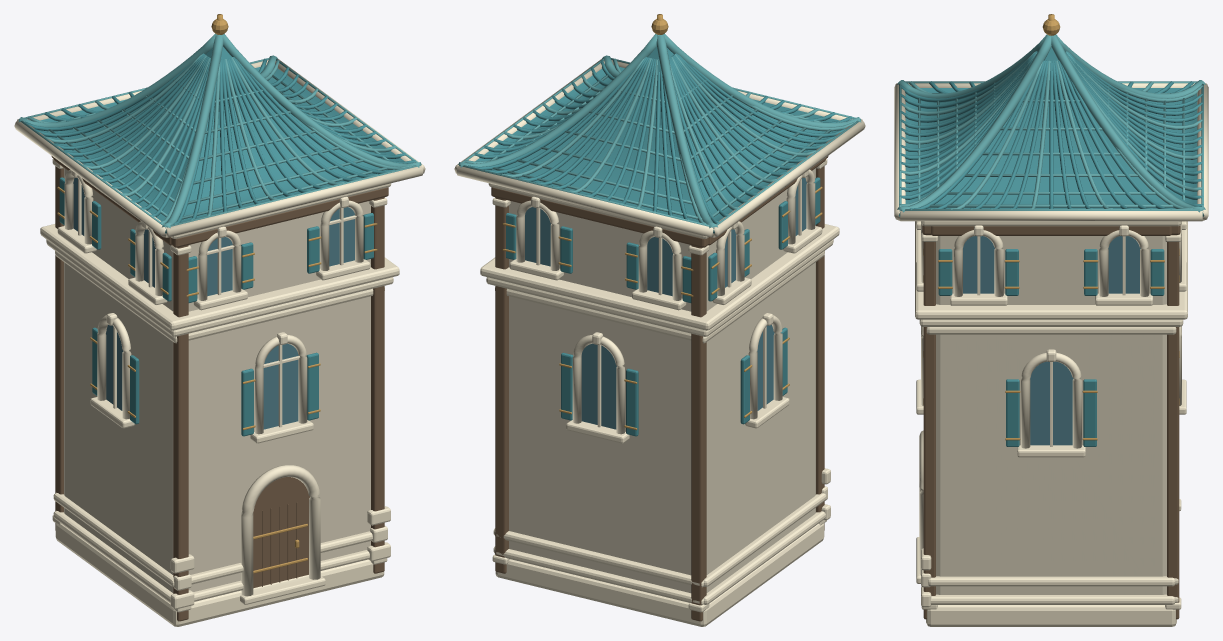
Rendered from tower.glb.
3 views of the same model, side by side, from view 1: azimuth 30°, elevation 25°; view 2: azimuth 150°, elevation 25°; view 3: azimuth 270°, elevation 25° (orthographic). The views are drawn at different scales.
Visible parts, largest first — view 1: Honey ivory plaster, Carved pale limestone, Glazed peacock roof, Walnut beams, Celadon tile variation, Dusky blue window, Warm brass accents; view 2: Honey ivory plaster, Carved pale limestone, Glazed peacock roof, Celadon tile variation, Walnut beams, Dusky blue window, Warm brass accents; view 3: Honey ivory plaster, Carved pale limestone, Glazed peacock roof, Celadon tile variation, Walnut beams, Dusky blue window, Warm brass accents.
Boxes of the visible parts, box(x1,y1,x2,y2) form: Honey ivory plaster: box(64, 168, 370, 592); Carved pale limestone: box(14, 59, 425, 626); Glazed peacock roof: box(24, 46, 415, 436); Walnut beams: box(51, 156, 388, 621); Celadon tile variation: box(18, 33, 421, 233); Dusky blue window: box(73, 178, 354, 429); Warm brass accents: box(57, 14, 377, 573); Honey ivory plaster: box(509, 168, 815, 593); Carved pale limestone: box(454, 59, 865, 626); Glazed peacock roof: box(468, 46, 852, 436); Celadon tile variation: box(458, 33, 861, 233); Walnut beams: box(491, 156, 828, 621); Dusky blue window: box(525, 178, 806, 429); Warm brass accents: box(502, 14, 822, 430); Honey ivory plaster: box(936, 236, 1166, 594); Carved pale limestone: box(894, 83, 1208, 626); Glazed peacock roof: box(899, 47, 1203, 446); Celadon tile variation: box(897, 34, 1205, 216); Walnut beams: box(922, 225, 1180, 619); Dusky blue window: box(963, 236, 1140, 445); Warm brass accents: box(923, 14, 1179, 440).
Size of the model in its own units: 4.63 by 9.1 by 4.63.
